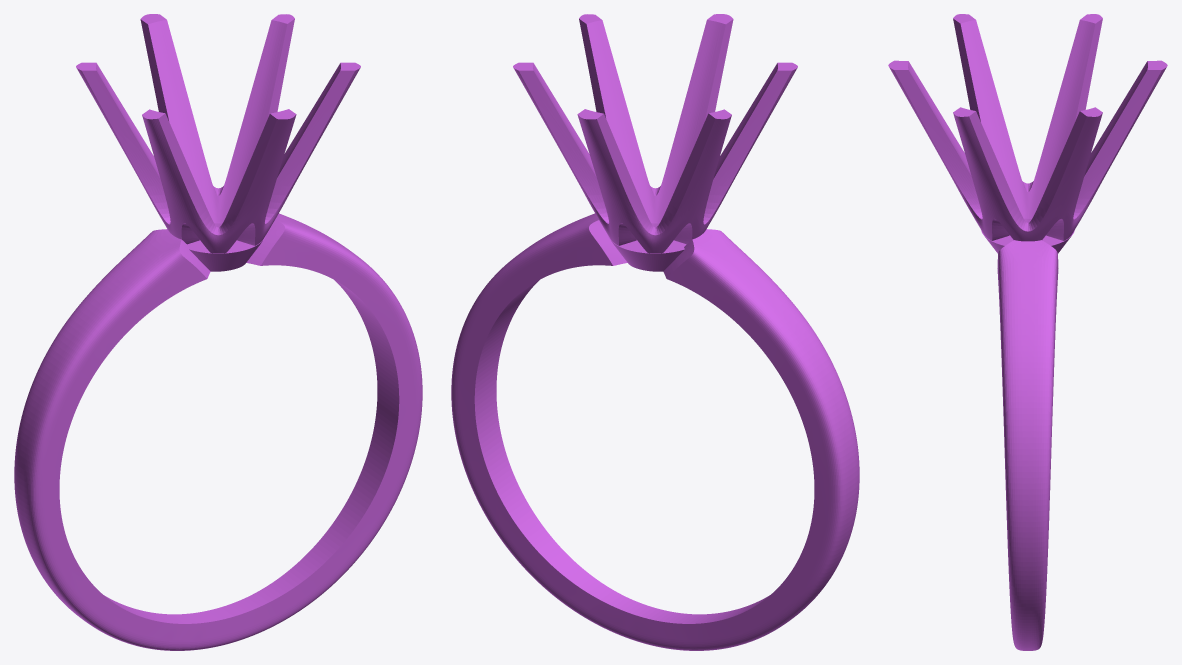
File: bague_t_.fbx
The picture shows the model from 3 angles, left to right: view 1: azimuth 30°, elevation 25°; view 2: azimuth 150°, elevation 25°; view 3: azimuth 270°, elevation 25°; orthographic projection. The views are drawn at different scales.
Parts seen in each view (by area): view 1: Tiffany; view 2: Tiffany; view 3: Tiffany.
Boxes of the visible parts, x1,y1,x2,y2 form: Tiffany: (14, 14, 422, 650); Tiffany: (451, 14, 859, 650); Tiffany: (888, 14, 1167, 650).
Bounding box in the file's own units: 11.18 × 15.6 × 6.99.
